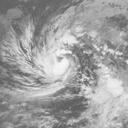cyclone: (19, 33, 81, 96)
